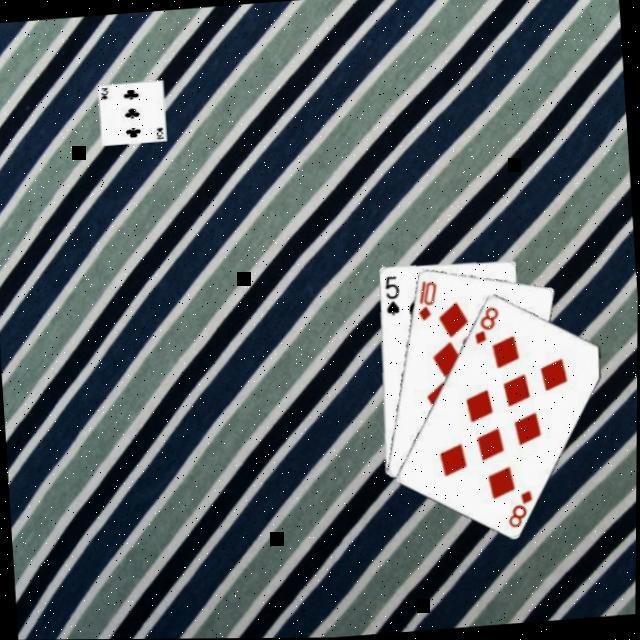10D: (411, 274, 439, 322)
5S: (378, 271, 401, 316)
8D: (466, 301, 501, 345), (500, 485, 535, 529)
